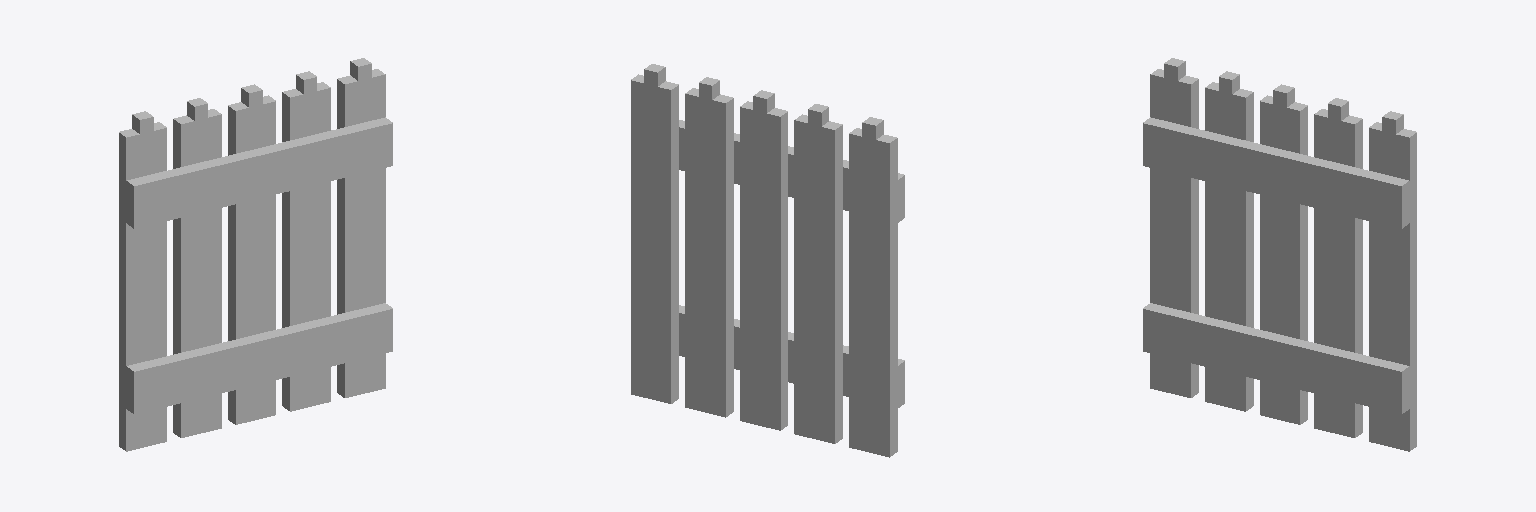
The model's file is Fence.obj.
3 renders of one model, left to right at view 1: azimuth 30°, elevation 25°; view 2: azimuth 150°, elevation 25°; view 3: azimuth 330°, elevation 25°, orthographic.
Parts seen in each view (by area): view 1: object 1; view 2: object 1; view 3: object 1.
Part boxes in pixels (left/top/right/bottom): object 1: left=119, top=58, right=392, bottom=451; object 1: left=631, top=64, right=904, bottom=457; object 1: left=1143, top=58, right=1416, bottom=451.
Bounding box in the file's own units: 1.9 × 2.3 × 0.2.